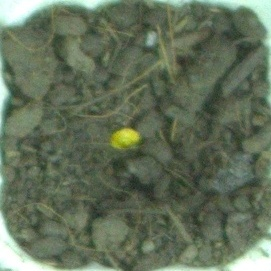chilli seed: (109, 126, 144, 151)
